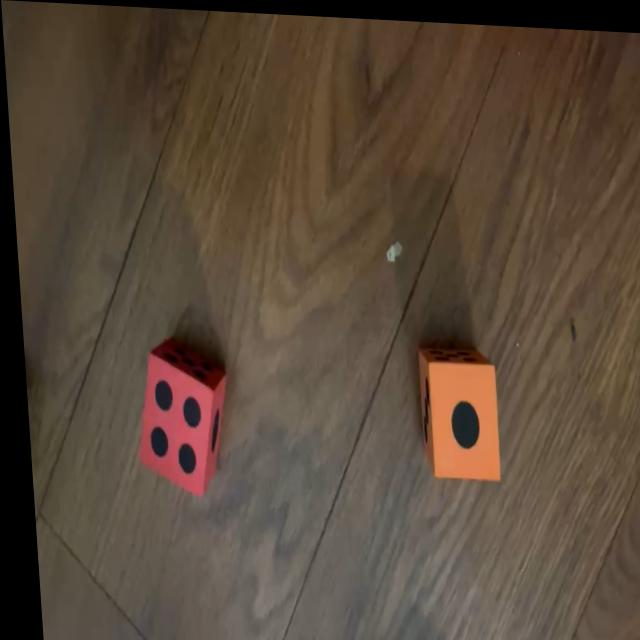cube: (127, 339, 229, 497)
